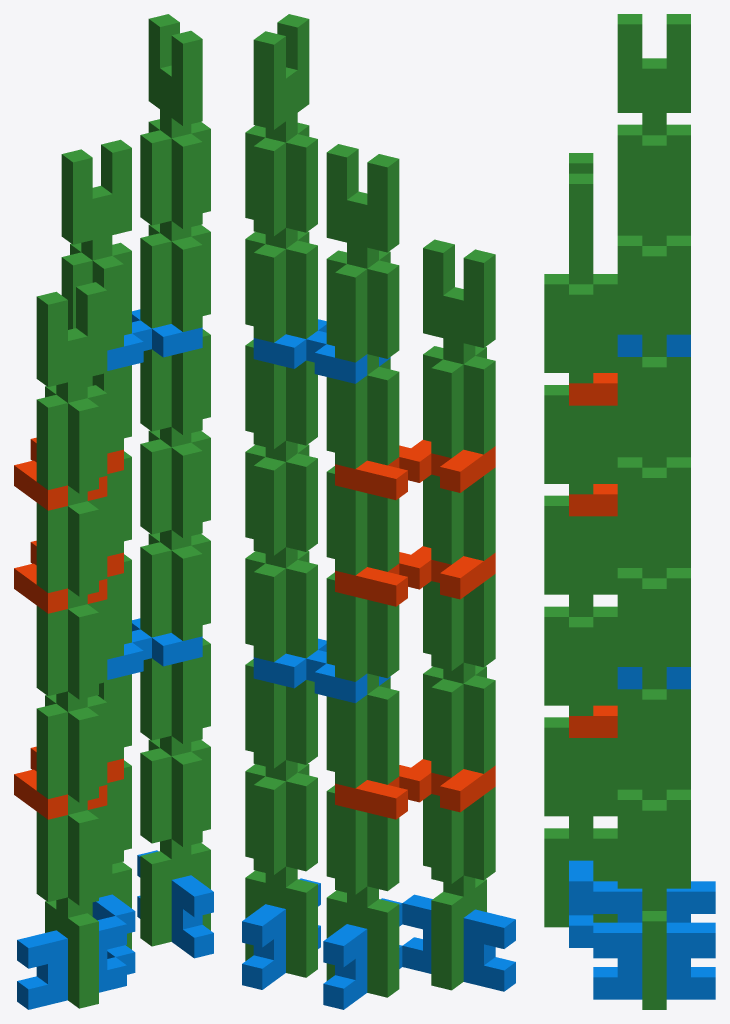
The picture shows the model from 3 angles, left to right: view 1: azimuth 30°, elevation 25°; view 2: azimuth 150°, elevation 25°; view 3: azimuth 270°, elevation 25°; orthographic projection. The views are drawn at different scales.
Parts seen in each view (by area): view 1: H_SIM (×21), X_SIM (×5), L_SIM (×3); view 2: H_SIM (×21), X_SIM (×5), L_SIM (×3); view 3: H_SIM (×17), X_SIM (×5), L_SIM (×3).
Part boxes in pixels (<box>): H_SIM (×21): <box>36,14,210,1008</box>; X_SIM (×5): <box>17,309,213,1009</box>; L_SIM (×3): <box>14,437,123,819</box>; H_SIM (×21): <box>245,14,495,997</box>; X_SIM (×5): <box>242,319,515,1009</box>; L_SIM (×3): <box>335,440,495,819</box>; H_SIM (×17): <box>544,14,690,1009</box>; X_SIM (×5): <box>569,334,715,999</box>; L_SIM (×3): <box>569,373,617,737</box>.
Size of the model in its own units: 1.43 by 5.72 by 0.91.
